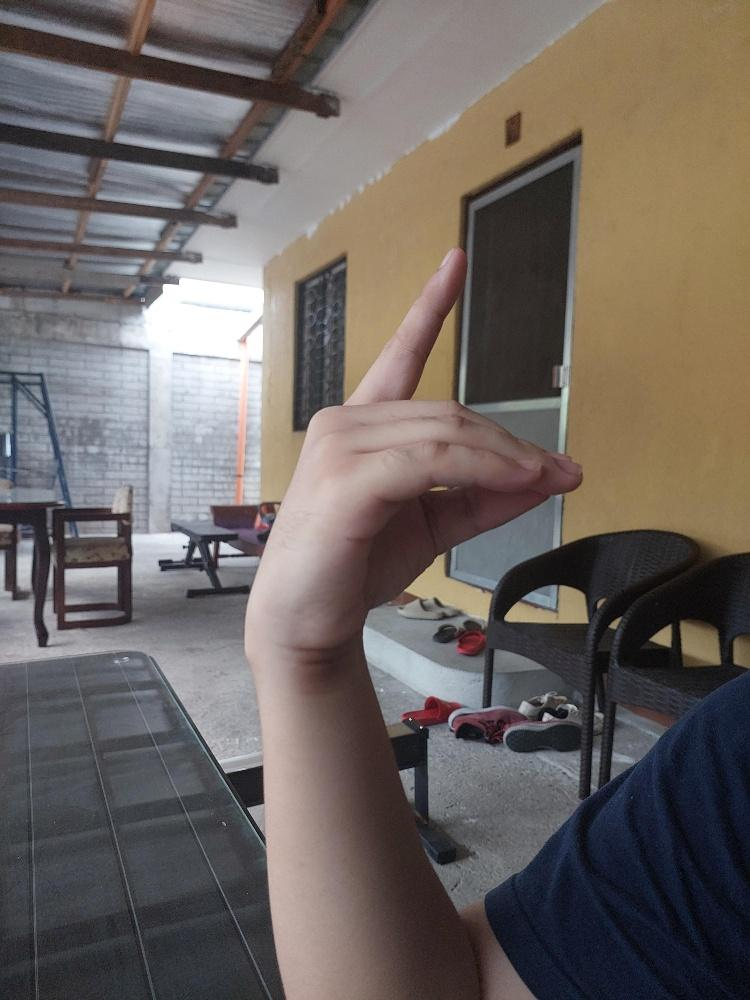d: (242, 239, 587, 651)
